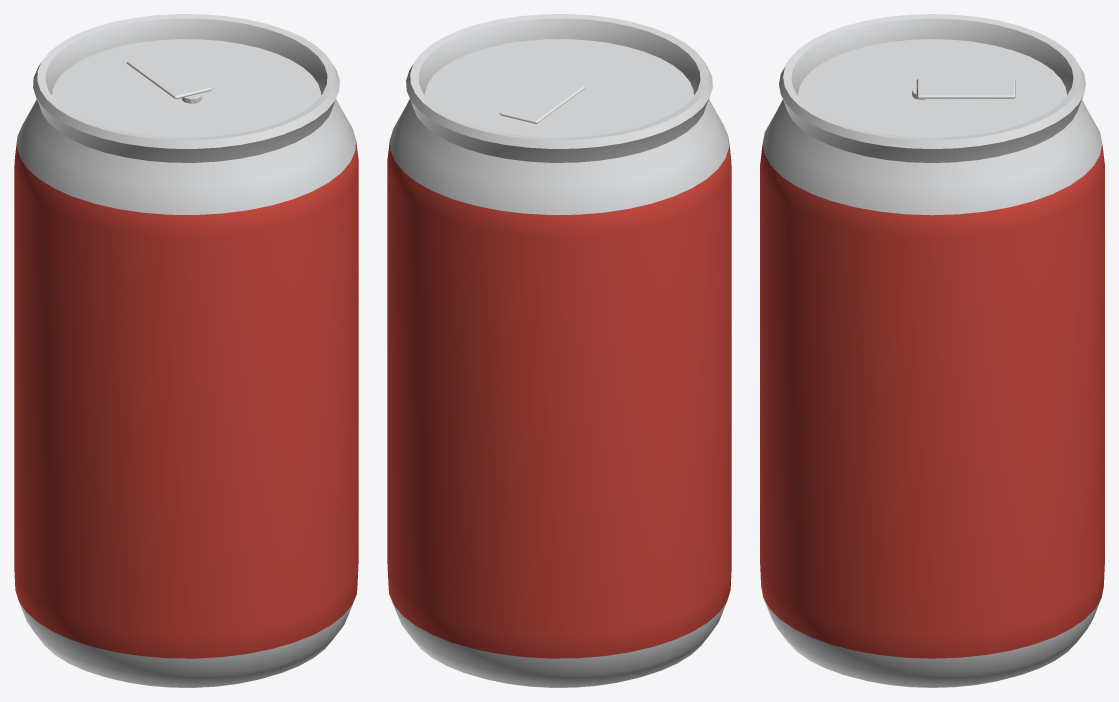
File: kitchen_can_a.fbx
The picture shows the model from 3 angles, left to right: view 1: azimuth 30°, elevation 25°; view 2: azimuth 150°, elevation 25°; view 3: azimuth 270°, elevation 25°; orthographic projection.
Visible parts, largest first — view 1: kitchen_can_a; view 2: kitchen_can_a; view 3: kitchen_can_a.
Boxes of the visible parts, x1,y1,x2,y2 form: kitchen_can_a: (14,14,358,687); kitchen_can_a: (387,14,731,687); kitchen_can_a: (760,14,1104,687).
Bounding box in the file's own units: 0.066 × 0.1165 × 0.066.
